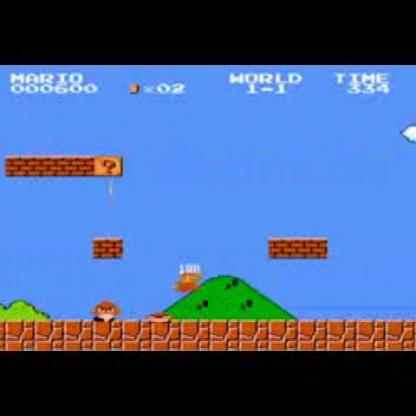Goomba: (94, 300, 121, 321)
